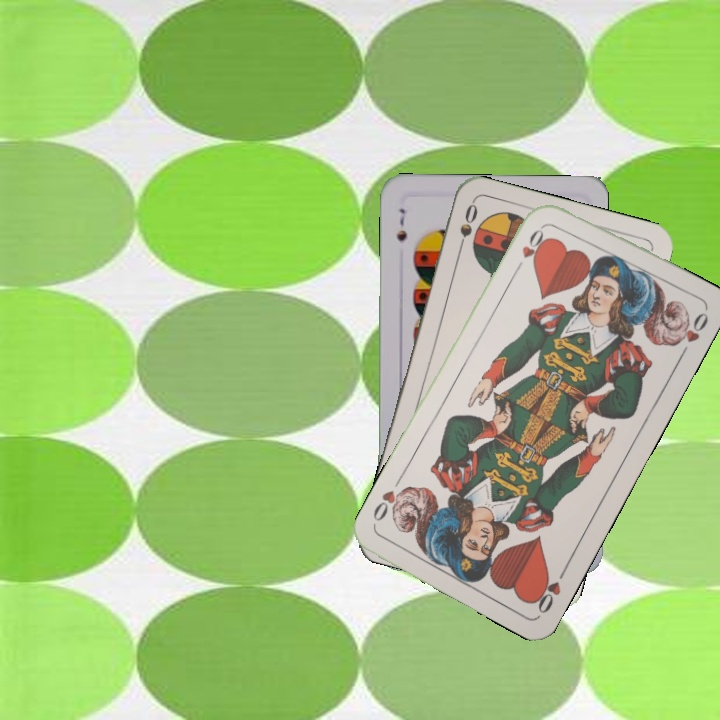HO: (530, 562, 570, 616), (511, 220, 549, 274)
S7: (392, 204, 409, 244)
SO: (453, 199, 481, 257)
